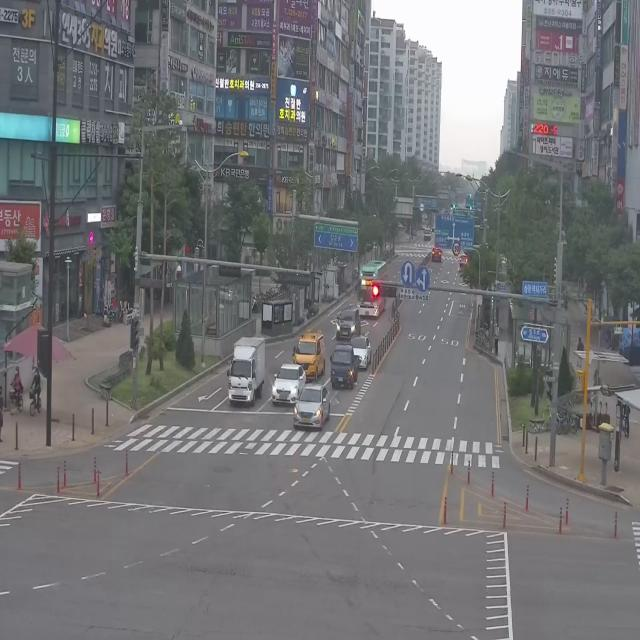Bus: (353, 250, 388, 322)
Car: (293, 384, 330, 431), (292, 330, 326, 381), (272, 362, 306, 404), (335, 304, 362, 340), (348, 328, 372, 368), (431, 246, 442, 262), (458, 253, 468, 266)
Truck: (227, 334, 266, 405), (329, 342, 361, 391)
